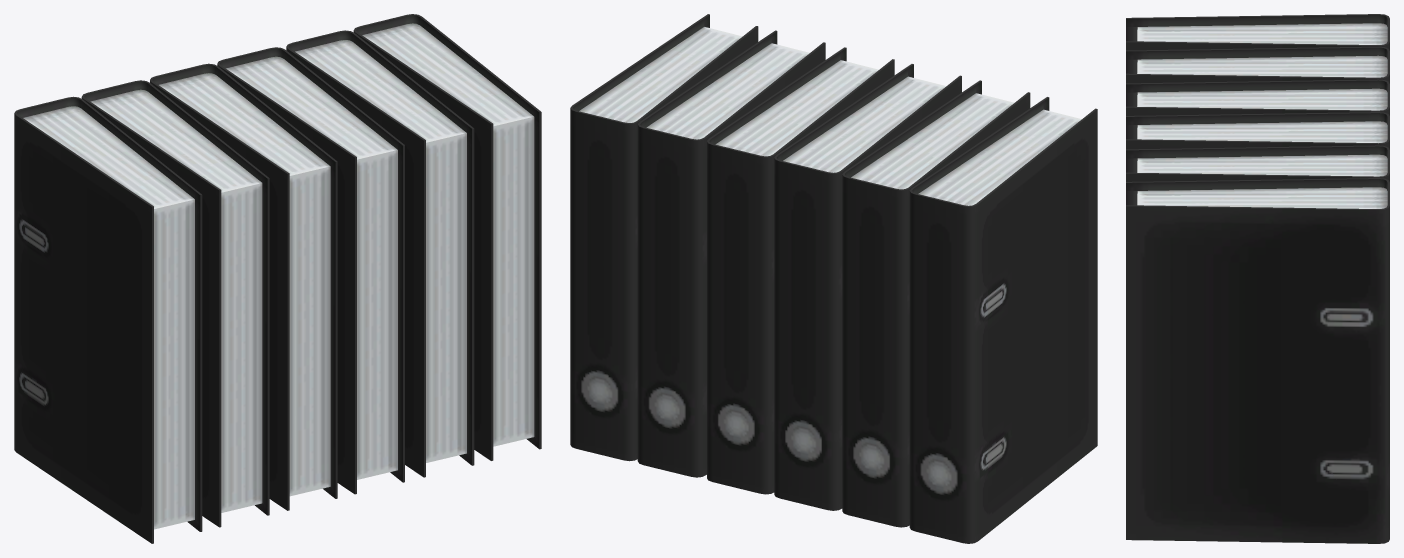
The model's file is OfficeDeskSet02__8.fbx.
3 views of the same model, side by side, from view 1: azimuth 30°, elevation 25°; view 2: azimuth 150°, elevation 25°; view 3: azimuth 270°, elevation 25° (orthographic).
Visible parts, largest first — view 1: OfficeDeskSet02; view 2: OfficeDeskSet02; view 3: OfficeDeskSet02.
Part boxes in pixels (x1,y1,x2,y2): OfficeDeskSet02: (14,14,541,543); OfficeDeskSet02: (570,14,1097,543); OfficeDeskSet02: (1126,14,1389,543).
Bounding box in the file's own units: 0.3906 × 0.31 × 0.2221.
1 material, 1 textured.
